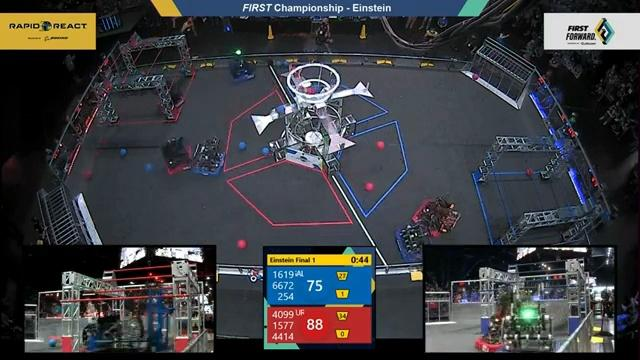robot: (407, 188, 458, 236), (387, 219, 438, 266), (188, 131, 227, 182), (154, 129, 195, 177), (473, 305, 508, 353), (223, 44, 261, 84)
